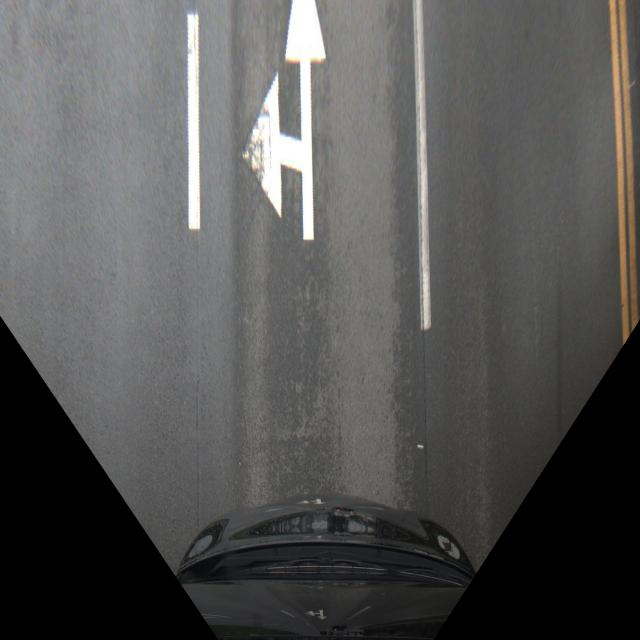forward_left: (185, 7, 438, 329)
